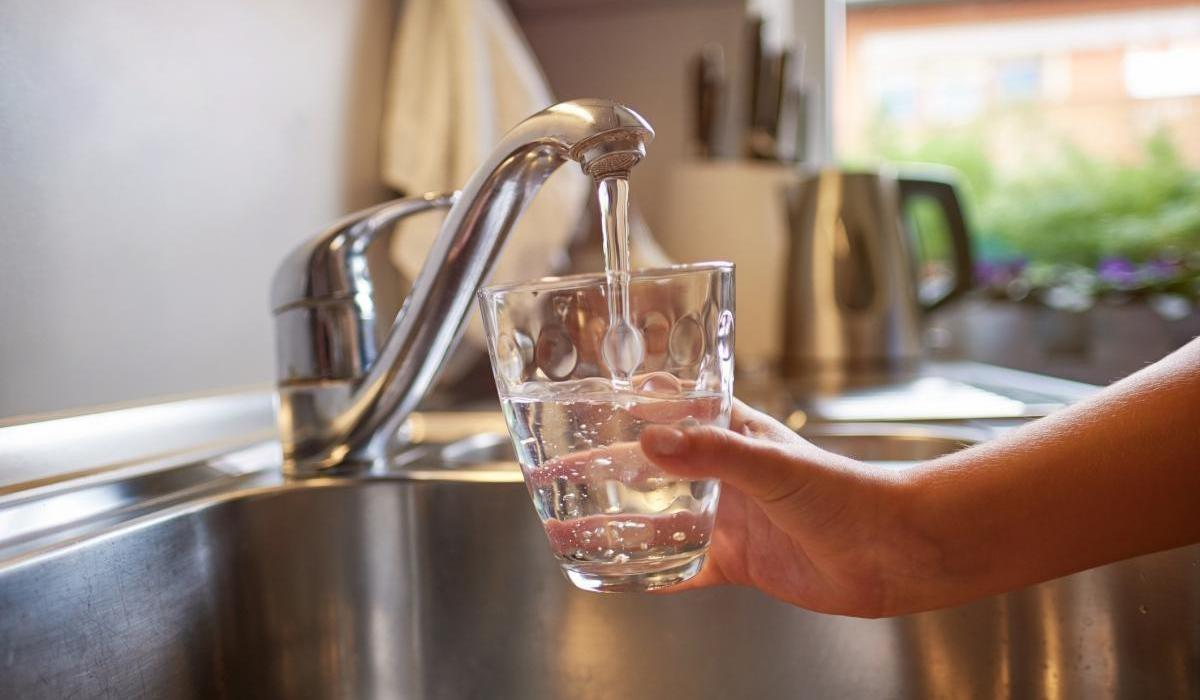glass-normal: (478, 265, 737, 587)
